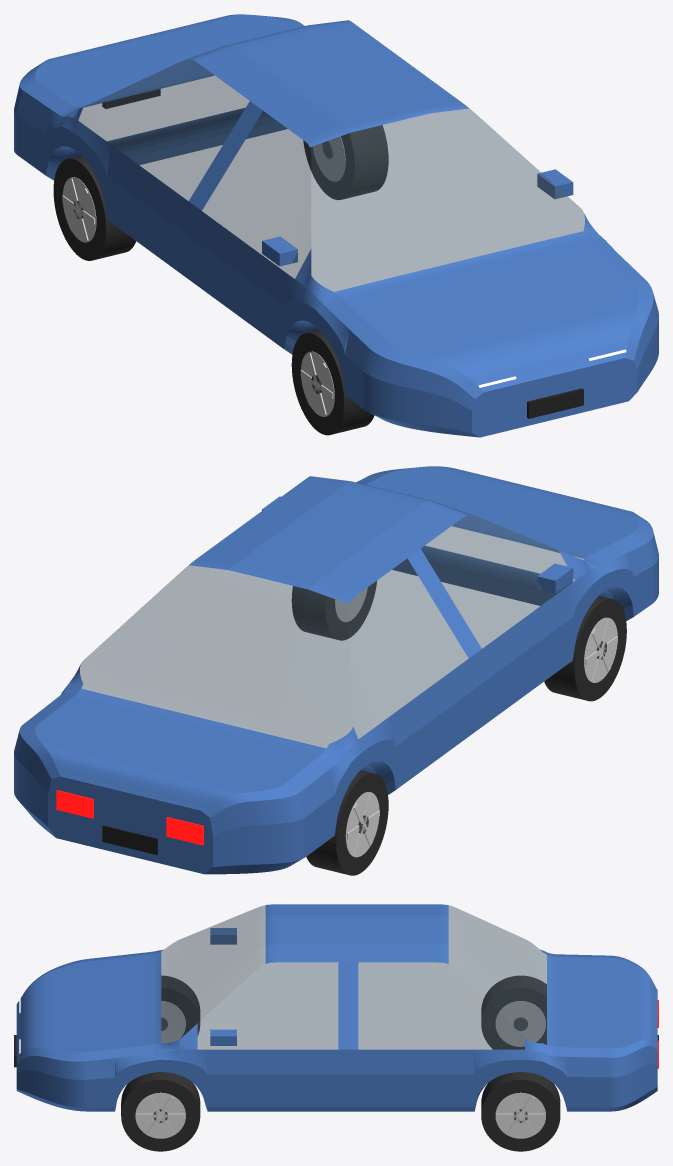
File: sedan_car.glb
The picture shows the model from 3 angles, top to bottom: view 1: azimuth 30°, elevation 25°; view 2: azimuth 150°, elevation 25°; view 3: azimuth 270°, elevation 25°; orthographic projection. The views are drawn at different scales.
Parts seen in each view (by area): view 1: Body, Glass, Wheel_RR_Tire, Wheel_RL_Tire, Wheel_FL_Tire, Wheel_RL_Rim, Wheel_FL_Rim, Grille, Wheel_RR_Rim, Mirror_R, Mirror_L; view 2: Body, Glass, Wheel_FL_Tire, Wheel_RL_Tire, Wheel_FR_Tire, Wheel_FL_Rim, Wheel_RL_Rim, RearBumperTrim, Mirror_L, Taillight_L, Taillight_R; view 3: Body, Glass, Wheel_RR_Tire, Wheel_FR_Tire, Wheel_RL_Tire, Wheel_FR_Rim, Wheel_RR_Rim, Wheel_RL_Rim, Wheel_FL_Tire, Wheel_FL_Rim, Mirror_R, Mirror_L.
Boxes of the visible parts, x1,y1,x2,y2 form: Body: (14,14,658,437); Glass: (78,20,584,291); Wheel_RR_Tire: (303,125,388,199); Wheel_RL_Tire: (53,155,136,260); Wheel_FL_Tire: (291,330,374,435); Wheel_RL_Rim: (62,177,96,242); Wheel_FL_Rim: (300,351,334,416); Grille: (527,388,583,418); Wheel_RR_Rim: (312,136,345,181); Mirror_R: (537,169,573,199); Mirror_L: (262,236,297,266); Body: (14,466,658,874); Glass: (80,476,584,748); Wheel_FL_Tire: (544,596,626,701); Wheel_RL_Tire: (306,770,388,875); Wheel_FR_Tire: (291,581,376,640); Wheel_FL_Rim: (584,617,617,682); Wheel_RL_Rim: (345,792,379,857); RearBumperTrim: (102,825,157,854); Mirror_L: (537,563,573,593); Taillight_L: (166,817,203,845); Taillight_R: (56,790,93,818); Body: (16,904,657,1111); Glass: (161,905,546,1049); Wheel_RR_Tire: (481,1072,560,1151); Wheel_FR_Tire: (121,1072,200,1151); Wheel_RL_Tire: (481,975,546,1049); Wheel_FR_Rim: (135,1092,185,1138); Wheel_RR_Rim: (495,1092,545,1138); Wheel_RL_Rim: (495,1001,545,1046); Wheel_FL_Tire: (161,975,200,1038); Wheel_FL_Rim: (161,1001,185,1043); Mirror_R: (210,1029,236,1045); Mirror_L: (210,928,236,944).
Bounding box in the file's own units: 1.92 × 1.4 × 4.84.
